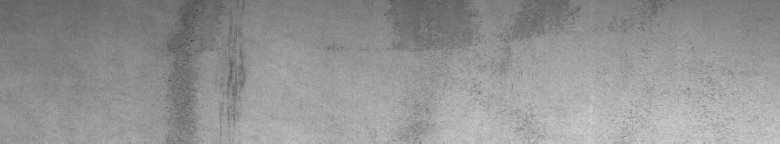ka: (162, 16, 245, 122)
